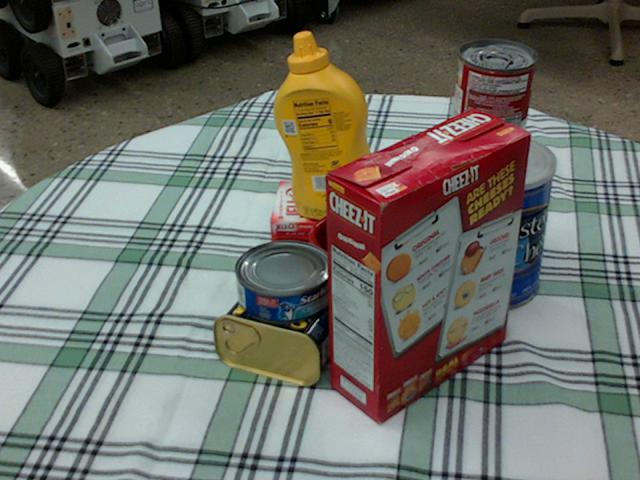cracker_box: (325, 109, 531, 422)
gelatin_box: (269, 181, 342, 244)
master_chef_can: (435, 132, 556, 310)
mug: (309, 210, 427, 328)
mustard_bottle: (272, 32, 384, 219)
potted_meat_can: (215, 271, 354, 384)
sugar_box: (346, 155, 474, 275)
tomato_soup_can: (448, 40, 534, 175)
tuna_fish_can: (235, 239, 333, 324)
